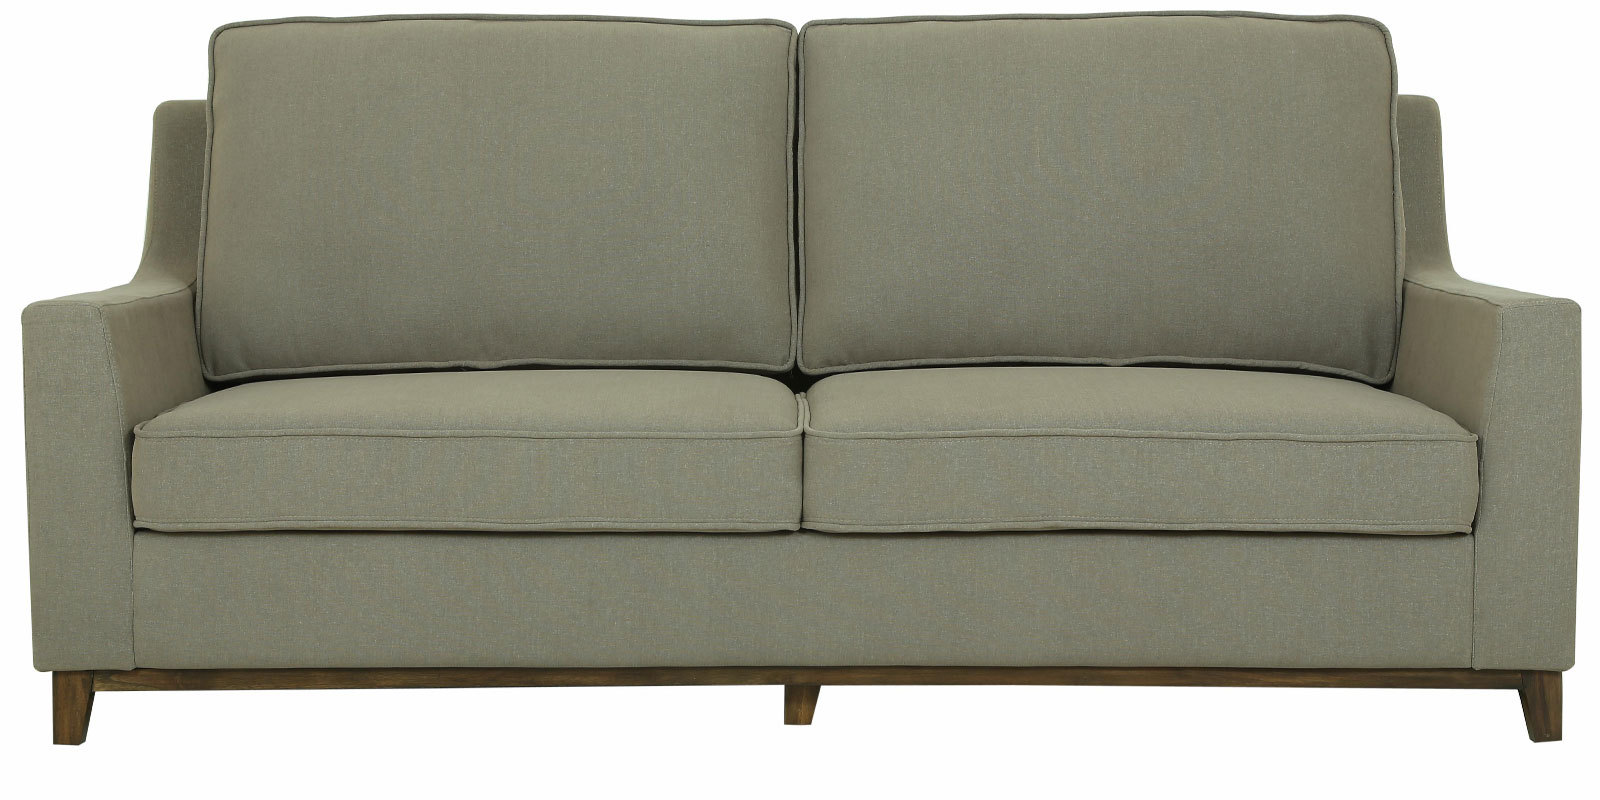Diego Three Seater Sofa in Sandy Colour by CasaCraft: (15, 10, 1584, 781)
